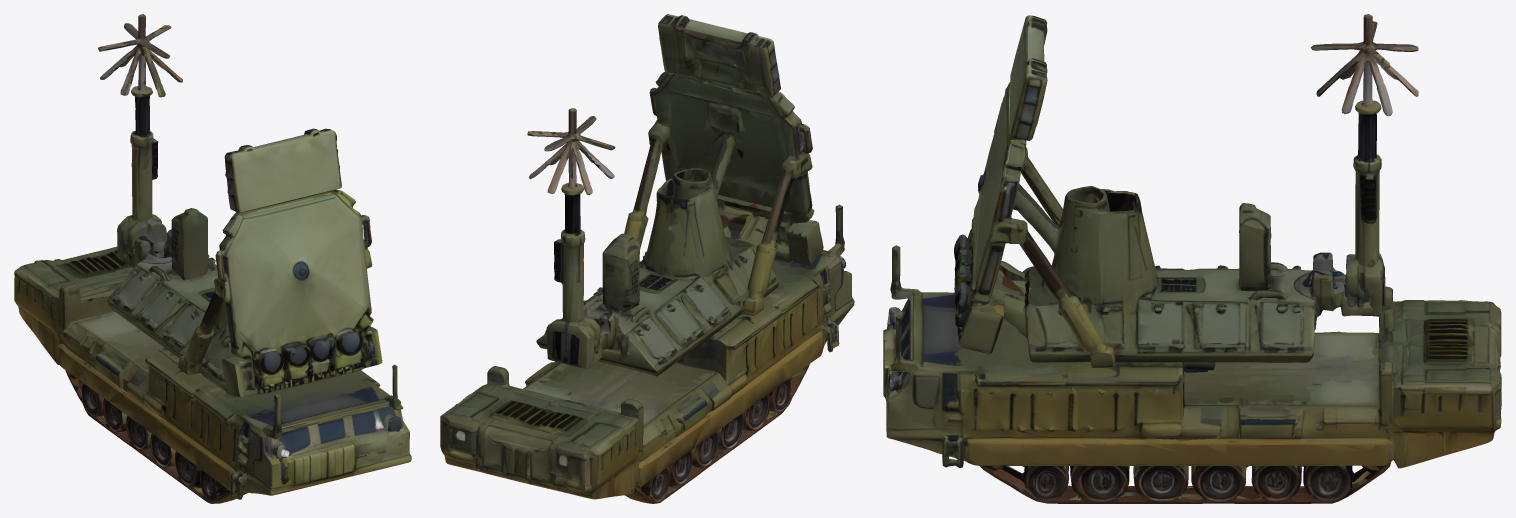
The model's file is SAM_mobile.fbx.
3 renders of one model, left to right at view 1: azimuth 30°, elevation 25°; view 2: azimuth 150°, elevation 25°; view 3: azimuth 270°, elevation 25°, orthographic. The views are drawn at different scales.
Visible parts, largest first — view 1: textured_mesh; view 2: textured_mesh; view 3: textured_mesh.
Part boxes in pixels (x1,y1,x2,y2): textured_mesh: [14, 14, 411, 503]; textured_mesh: [440, 14, 854, 503]; textured_mesh: [883, 14, 1501, 503].
Bounding box in the file's own units: 71.23 × 160 × 199.
Materials: 1 (1 with a texture image).
